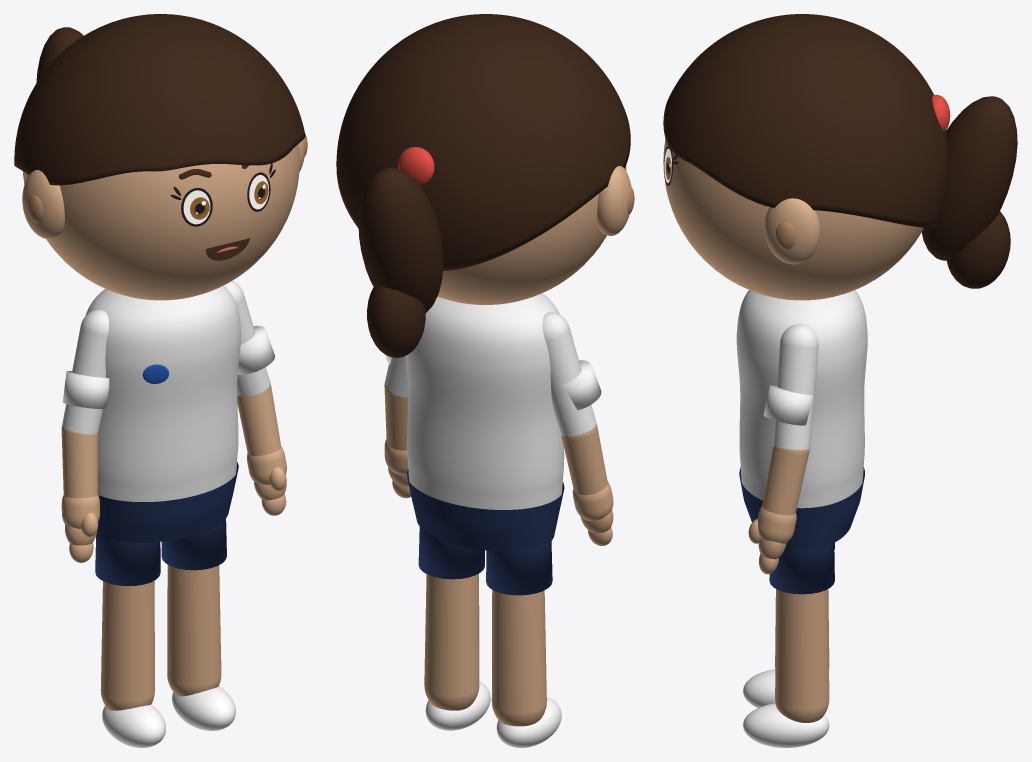
The model's file is klasgenoot_a.glb.
3 renders of one model, left to right at view 1: azimuth 30°, elevation 25°; view 2: azimuth 150°, elevation 25°; view 3: azimuth 270°, elevation 25°, orthographic.
Parts seen in each view (by area): view 1: klasgenoot_a_haar, klasgenoot_a_romp, klasgenoot_a_hoofd, klasgenoot_a_been_L, klasgenoot_a_been_R, klasgenoot_a_short_heup, klasgenoot_a_bovenarm_R, klasgenoot_a_short_R, klasgenoot_a_onderarm_R, klasgenoot_a_short_L, klasgenoot_a_onderarm_L, klasgenoot_a_schoen_R (+9 smaller); view 2: klasgenoot_a_haar, klasgenoot_a_romp, klasgenoot_a_staart, klasgenoot_a_hoofd, klasgenoot_a_been_L, klasgenoot_a_been_R, klasgenoot_a_short_heup, klasgenoot_a_bovenarm_R, klasgenoot_a_staart_punt, klasgenoot_a_short_R, klasgenoot_a_short_L, klasgenoot_a_onderarm_R (+9 smaller); view 3: klasgenoot_a_haar, klasgenoot_a_romp, klasgenoot_a_hoofd, klasgenoot_a_staart, klasgenoot_a_been_L, klasgenoot_a_bovenarm_L, klasgenoot_a_short_heup, klasgenoot_a_staart_punt, klasgenoot_a_short_L, klasgenoot_a_oor_L, klasgenoot_a_schoen_L, klasgenoot_a_onderarm_L (+3 smaller).
Boxes of the visible parts, left/top/right/bottom form: klasgenoot_a_haar: left=14, top=14, right=305, bottom=185; klasgenoot_a_romp: left=85, top=285, right=240, bottom=501; klasgenoot_a_hoofd: left=22, top=144, right=299, bottom=300; klasgenoot_a_been_L: left=167, top=565, right=221, bottom=696; klasgenoot_a_been_R: left=100, top=580, right=154, bottom=710; klasgenoot_a_short_heup: left=97, top=462, right=238, bottom=542; klasgenoot_a_bovenarm_R: left=61, top=309, right=108, bottom=434; klasgenoot_a_short_R: left=95, top=533, right=160, bottom=586; klasgenoot_a_onderarm_R: left=61, top=428, right=98, bottom=498; klasgenoot_a_short_L: left=161, top=518, right=226, bottom=570; klasgenoot_a_onderarm_L: left=237, top=385, right=281, bottom=455; klasgenoot_a_schoen_R: left=102, top=704, right=165, bottom=747; klasgenoot_a_haar: left=336, top=14, right=630, bottom=271; klasgenoot_a_romp: left=405, top=293, right=564, bottom=509; klasgenoot_a_staart: left=358, top=167, right=443, bottom=312; klasgenoot_a_hoofd: left=437, top=165, right=626, bottom=304; klasgenoot_a_been_L: left=424, top=573, right=479, bottom=710; klasgenoot_a_been_R: left=491, top=590, right=546, bottom=726; klasgenoot_a_short_heup: left=407, top=469, right=564, bottom=551; klasgenoot_a_bovenarm_R: left=542, top=312, right=596, bottom=439; klasgenoot_a_staart_punt: left=367, top=285, right=425, bottom=357; klasgenoot_a_short_R: left=486, top=541, right=552, bottom=595; klasgenoot_a_short_L: left=418, top=527, right=484, bottom=579; klasgenoot_a_onderarm_R: left=561, top=427, right=607, bottom=495; klasgenoot_a_haar: left=663, top=14, right=947, bottom=227; klasgenoot_a_romp: left=736, top=290, right=867, bottom=508; klasgenoot_a_hoofd: left=663, top=138, right=923, bottom=300; klasgenoot_a_staart: left=921, top=96, right=1017, bottom=260; klasgenoot_a_been_L: left=775, top=589, right=829, bottom=722; klasgenoot_a_bovenarm_L: left=773, top=324, right=818, bottom=455; klasgenoot_a_short_heup: left=739, top=467, right=864, bottom=549; klasgenoot_a_staart_punt: left=947, top=211, right=1010, bottom=288; klasgenoot_a_short_L: left=769, top=543, right=834, bottom=594; klasgenoot_a_oor_L: left=764, top=198, right=820, bottom=264; klasgenoot_a_schoen_L: left=743, top=703, right=829, bottom=747; klasgenoot_a_onderarm_L: left=762, top=446, right=808, bottom=515.
Size of the model in its own units: 0.6542 by 1.59 by 0.7272.
